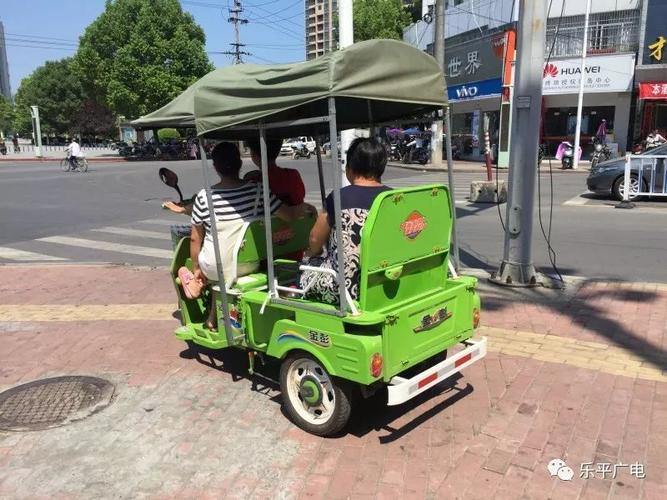driver: (245, 131, 304, 225)
overloading: (134, 36, 484, 431)
passenger: (307, 138, 395, 331), (191, 147, 261, 287)
